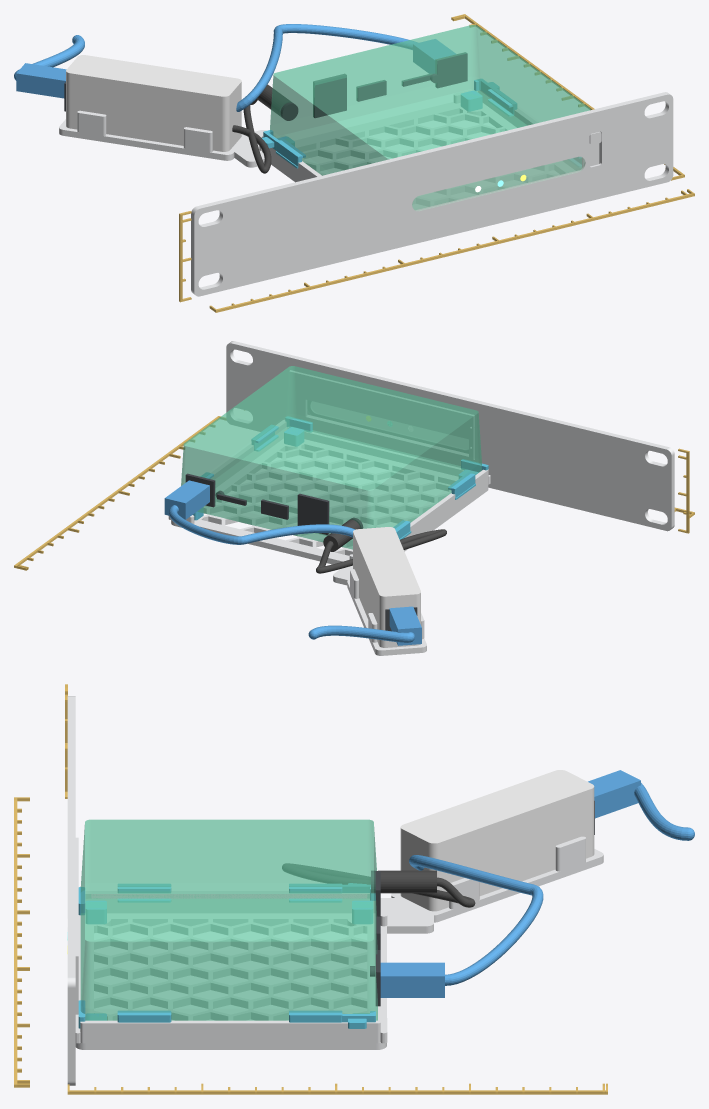
The model's file is home-assistant-green-rack-sics_angled.glb.
3 renders of one model, top to bottom at view 1: azimuth 30°, elevation 25°; view 2: azimuth 150°, elevation 25°; view 3: azimuth 270°, elevation 25°, orthographic. The views are drawn at different scales.
Visible parts, largest first — view 1: White rack mount, Home Assistant Green, SICSOLINK SL-FLQ-POE48K, Green tray — standard, 10 mm dimension rulers, Home Assistant Green connector faces, Internal Ethernet cable, LED window insert, Incoming PoE cable, Green retention — segmented rails + rear latch, DC cable, Home Assistant logo; view 2: Home Assistant Green, White rack mount, Green tray — standard, LED shutter retainer, SICSOLINK SL-FLQ-POE48K, Internal Ethernet cable, Green retention — segmented rails + rear latch, LED window insert, Home Assistant Green connector faces, Incoming PoE cable, 10 mm dimension rulers, DC cable; view 3: Home Assistant Green, Green tray — standard, SICSOLINK SL-FLQ-POE48K, White rack mount, Internal Ethernet cable, Green retention — segmented rails + rear latch, 10 mm dimension rulers, DC cable, Incoming PoE cable, Home Assistant Green connector faces, LED shutter retainer.
Boxes of the visible parts, box(x1,y1,x2,y2) form: White rack mount: box(59, 92, 673, 296); Home Assistant Green: box(270, 25, 590, 209); SICSOLINK SL-FLQ-POE48K: box(66, 55, 241, 151); Green tray — standard: box(259, 89, 537, 182); 10 mm dimension rulers: box(179, 14, 694, 312); Home Assistant Green connector faces: box(280, 52, 467, 120); Internal Ethernet cable: box(236, 24, 455, 111); LED window insert: box(412, 156, 585, 211); Incoming PoE cable: box(14, 35, 84, 98); Green retention — segmented rails + rear latch: box(262, 79, 581, 168); DC cable: box(232, 84, 291, 173); Home Assistant logo: box(294, 203, 331, 248); Home Assistant Green: box(181, 366, 481, 549); White rack mount: box(226, 341, 674, 655); Green tray — standard: box(168, 420, 490, 564); LED shutter retainer: box(289, 370, 474, 459); SICSOLINK SL-FLQ-POE48K: box(353, 527, 420, 647); Internal Ethernet cable: box(164, 480, 354, 544); Green retention — segmented rails + rear latch: box(193, 416, 488, 539); LED window insert: box(308, 401, 468, 452); Home Assistant Green connector faces: box(185, 473, 363, 534); Incoming PoE cable: box(308, 606, 421, 645); 10 mm dimension rulers: box(14, 410, 694, 570); DC cable: box(316, 519, 446, 573); Home Assistant Green: box(80, 819, 377, 1020); Green tray — standard: box(75, 891, 387, 1049); SICSOLINK SL-FLQ-POE48K: box(400, 770, 594, 911); White rack mount: box(67, 696, 603, 1085); Internal Ethernet cable: box(380, 855, 543, 997); Green retention — segmented rails + rear latch: box(78, 883, 375, 1028); 10 mm dimension rulers: box(14, 684, 607, 1094); DC cable: box(282, 863, 475, 907); Incoming PoE cable: box(588, 770, 694, 840); Home Assistant Green connector faces: box(370, 870, 380, 1006); LED shutter retainer: box(75, 837, 78, 1014).
Size of what is drawn, in the model's own units: 268 by 44.45 by 254.
